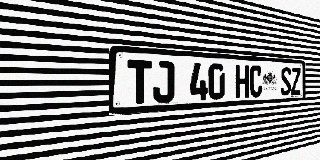0: (208, 63, 224, 100)
4: (190, 62, 208, 101)
C: (249, 65, 262, 97)
H: (235, 65, 249, 98)
J: (153, 60, 174, 103)
S: (281, 67, 291, 96)
T: (127, 59, 152, 105)
Z: (291, 67, 301, 95)
